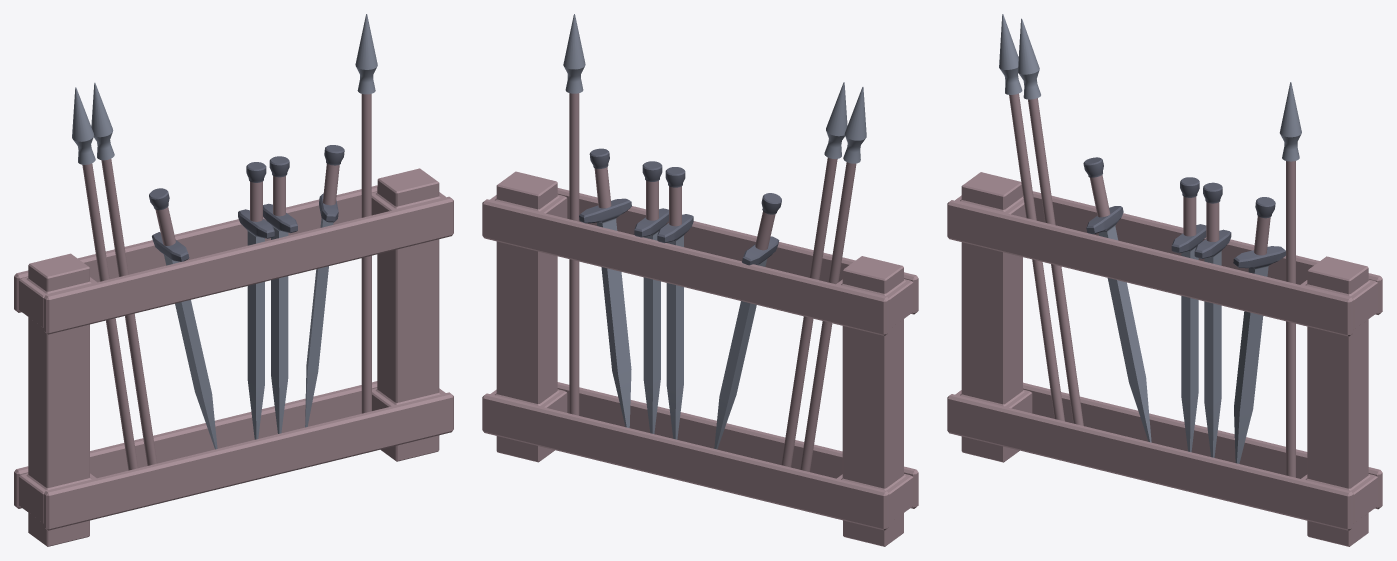
File: weapon_rack.fbx
The picture shows the model from 3 angles, left to right: view 1: azimuth 30°, elevation 25°; view 2: azimuth 150°, elevation 25°; view 3: azimuth 330°, elevation 25°; orthographic projection.
Visible parts, largest first — view 1: weapon_rack; view 2: weapon_rack; view 3: weapon_rack.
Boxes of the visible parts, left/top/right/bottom form: weapon_rack: left=14, top=14, right=453, bottom=546; weapon_rack: left=482, top=14, right=918, bottom=546; weapon_rack: left=947, top=14, right=1382, bottom=546.
Bounding box in the file's own units: 9.34 × 9.83 × 1.37.
